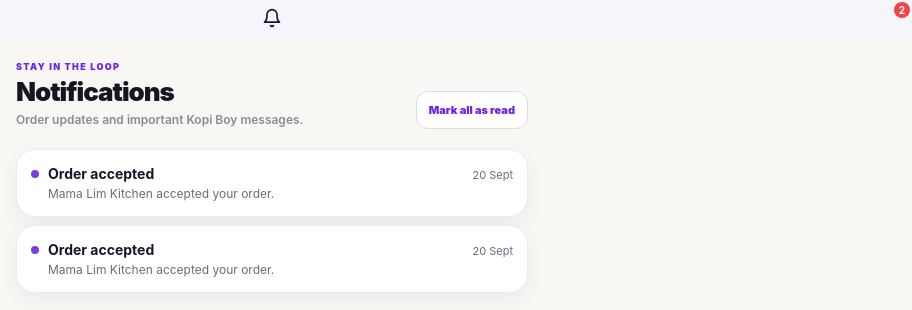
it: customer notifications — live via Realtime › 'Mark all as read' clears every unread and issues a single update
Expected: the text with test id "notification-badge" reads "2", [899,4,905,16]
Click the button "Mark all as read" at [472, 110], box [416,91,528,129]
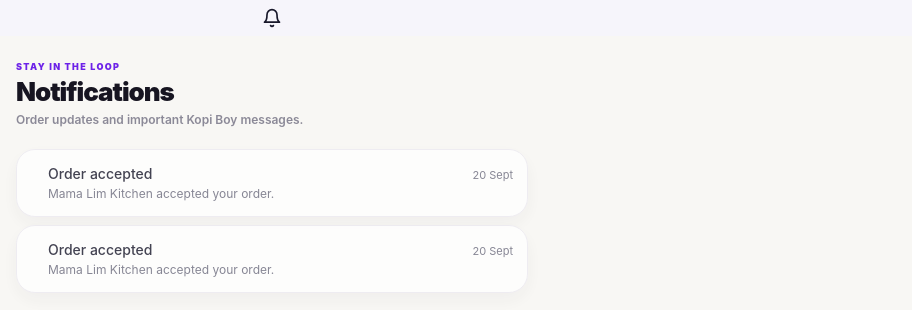
Expected: the text with test id "notification-badge" is gone
Expected: the button "Mark all as read" is gone
